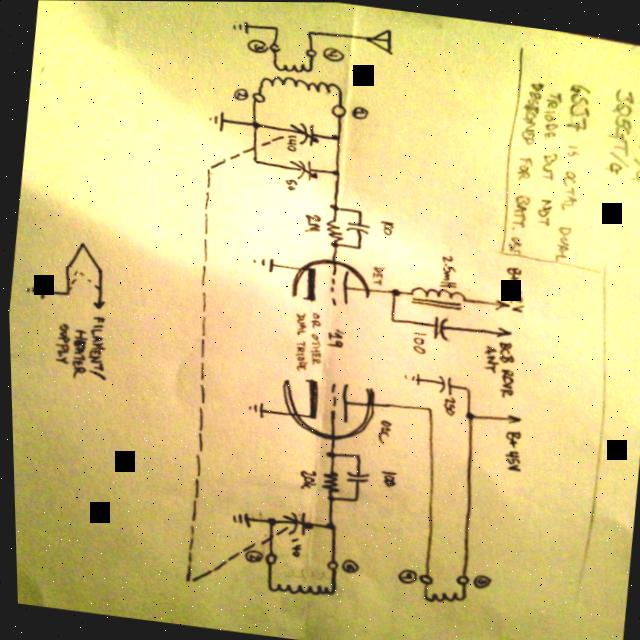capacitor: (280, 117, 323, 148), (274, 506, 312, 540), (280, 154, 321, 184), (421, 312, 452, 345), (427, 372, 456, 398), (338, 466, 368, 489), (339, 217, 370, 238)
ground: (199, 103, 233, 137), (243, 250, 280, 278), (219, 504, 255, 530), (236, 395, 268, 419), (396, 367, 425, 390), (226, 14, 255, 37)
inductor: (248, 69, 348, 100), (257, 572, 338, 606), (397, 280, 471, 314), (412, 584, 465, 610), (265, 58, 318, 76)
node: (457, 403, 478, 424), (243, 115, 264, 133), (258, 512, 278, 529), (317, 518, 340, 532), (384, 285, 403, 298), (318, 491, 334, 505), (326, 199, 341, 213), (324, 166, 343, 176), (326, 131, 341, 143), (320, 449, 336, 459), (325, 238, 339, 248)
resistor: (313, 467, 340, 496), (318, 217, 345, 244)
